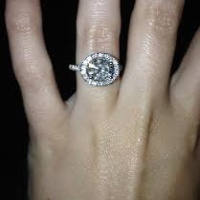ring: (66, 2, 124, 93)
